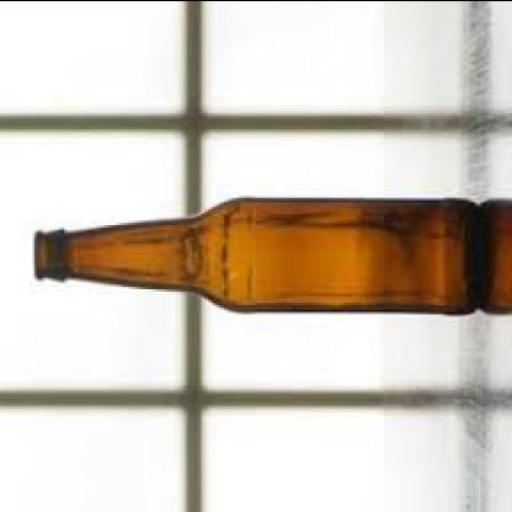glass: (30, 195, 482, 310)
